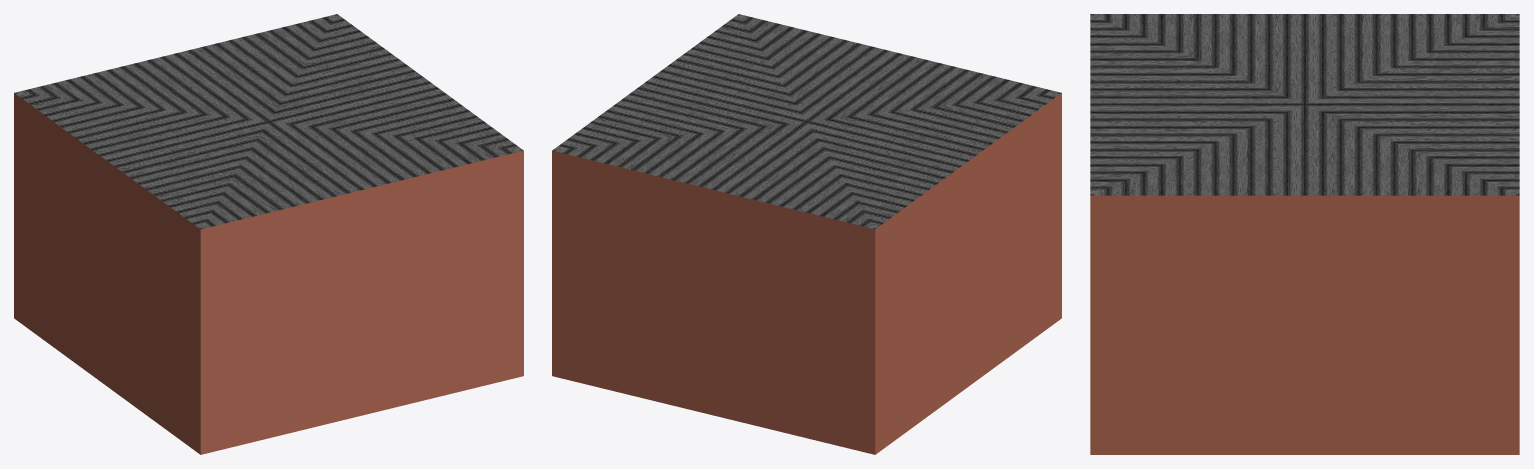
File: Interior_Room_Lvl_1.fbx
3 renders of one model, left to right at view 1: azimuth 30°, elevation 25°; view 2: azimuth 150°, elevation 25°; view 3: azimuth 270°, elevation 25°, orthographic. The views are drawn at different scales.
Visible parts, largest first — view 1: Room_1; view 2: Room_1; view 3: Room_1.
Part boxes in pixels (bbox=[...]): Room_1: bbox=[14, 14, 523, 454]; Room_1: bbox=[552, 14, 1061, 454]; Room_1: bbox=[1090, 14, 1519, 454].
Bounding box in the file's own units: 600 × 400 × 600.
